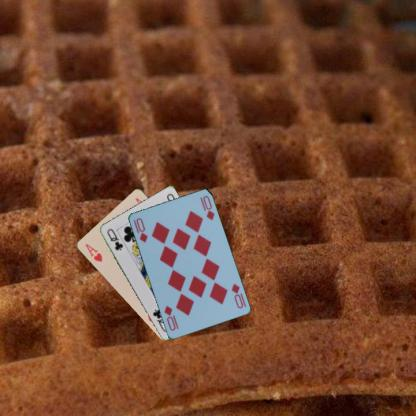10d: (130, 215, 148, 244), (229, 280, 244, 310)
Ah: (82, 241, 104, 263)
Qc: (104, 226, 124, 251)
